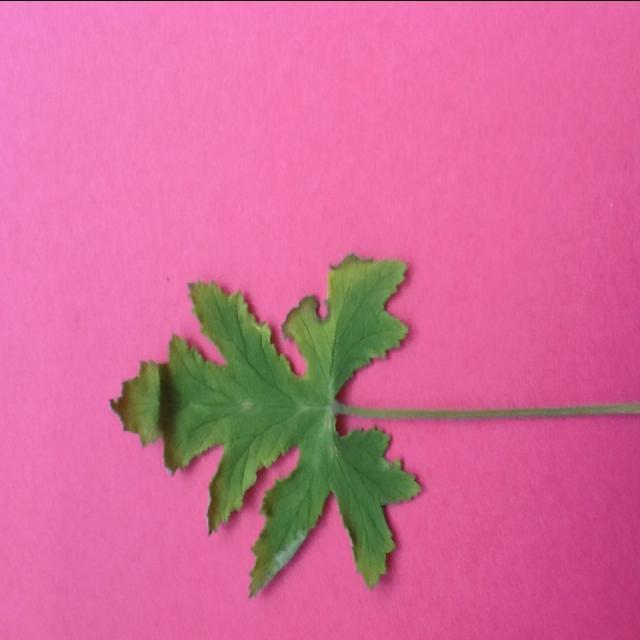foliage: (106, 252, 640, 605)
